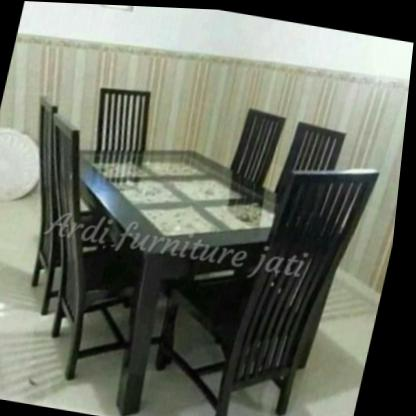Dining Table: (0, 67, 402, 416)
